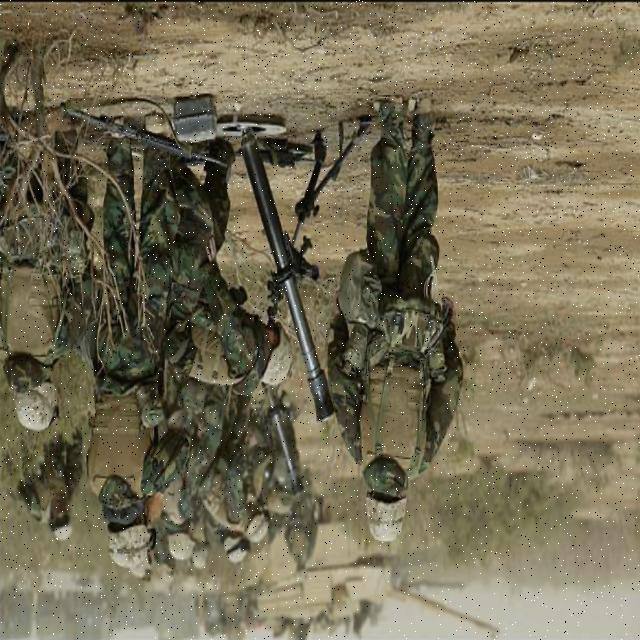bazooka: (235, 121, 352, 515)
